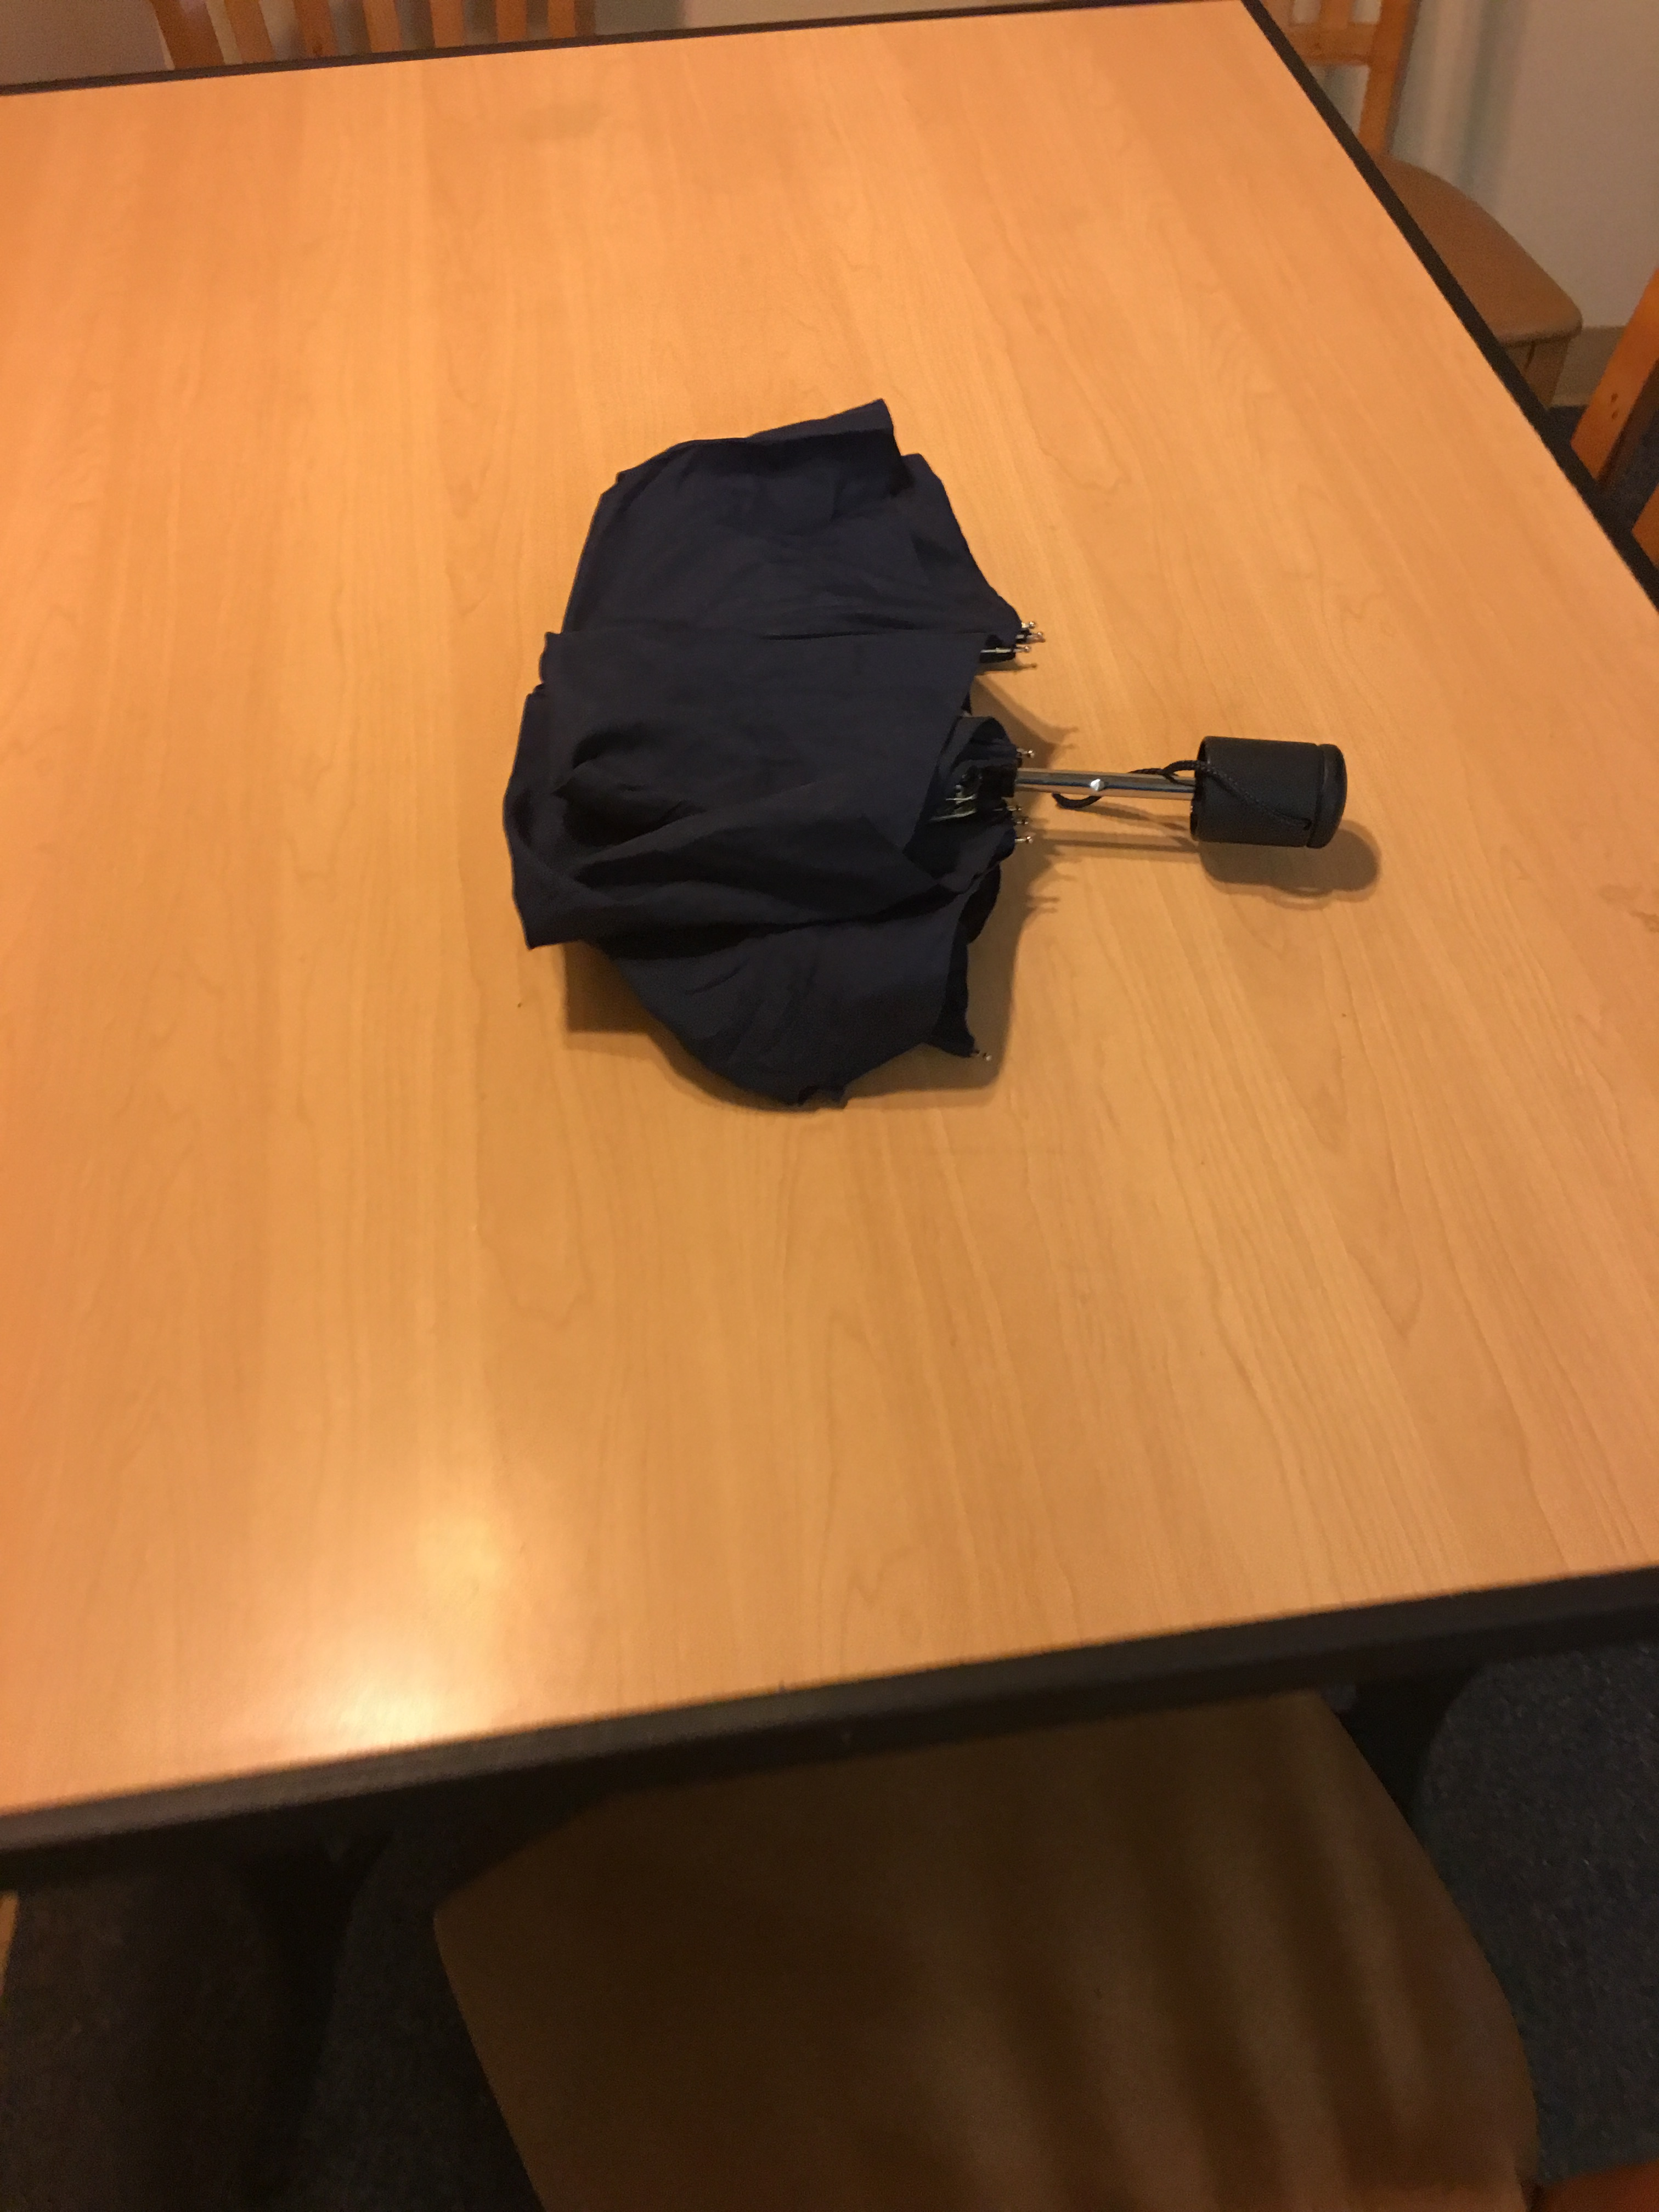Umbrella: (495, 395, 1370, 1129)
